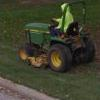Tractor: (14, 15, 96, 73)
